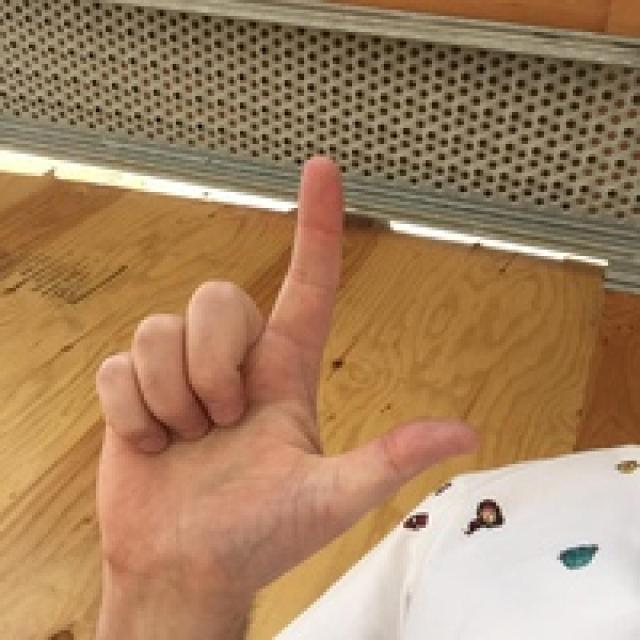L: (52, 98, 489, 640)
